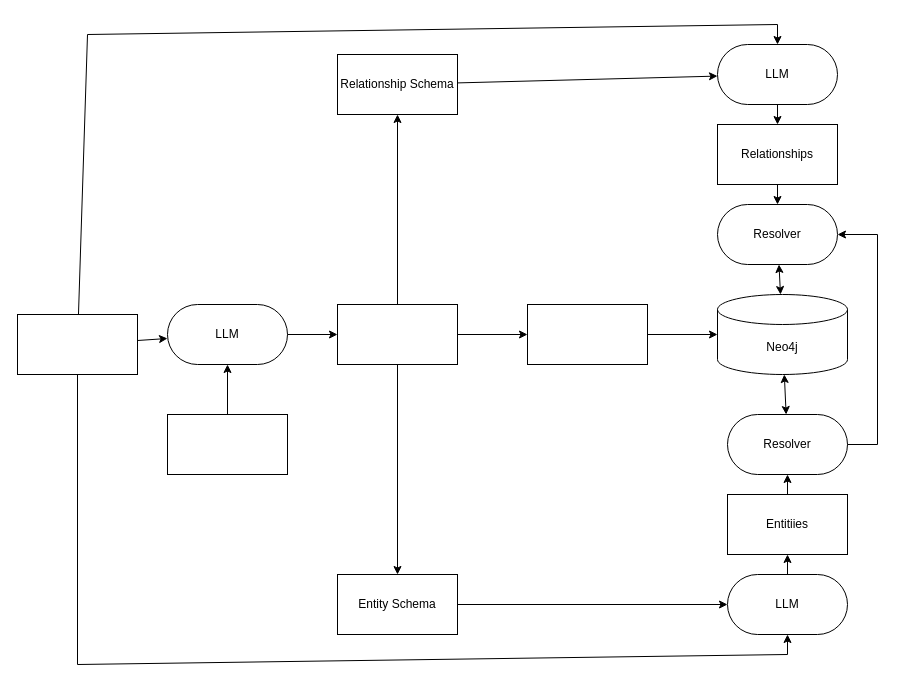
Some shapes in this 903 by 690 pixel diagram are drawn without their labels. The shapes that lost their labels are listed below. From the top down, each one's centre as x and y in pixels, then its label:
point (77, 344): Document
point (397, 334): Ontology
point (587, 334): Constraint
point (227, 444): Ontology Schema
